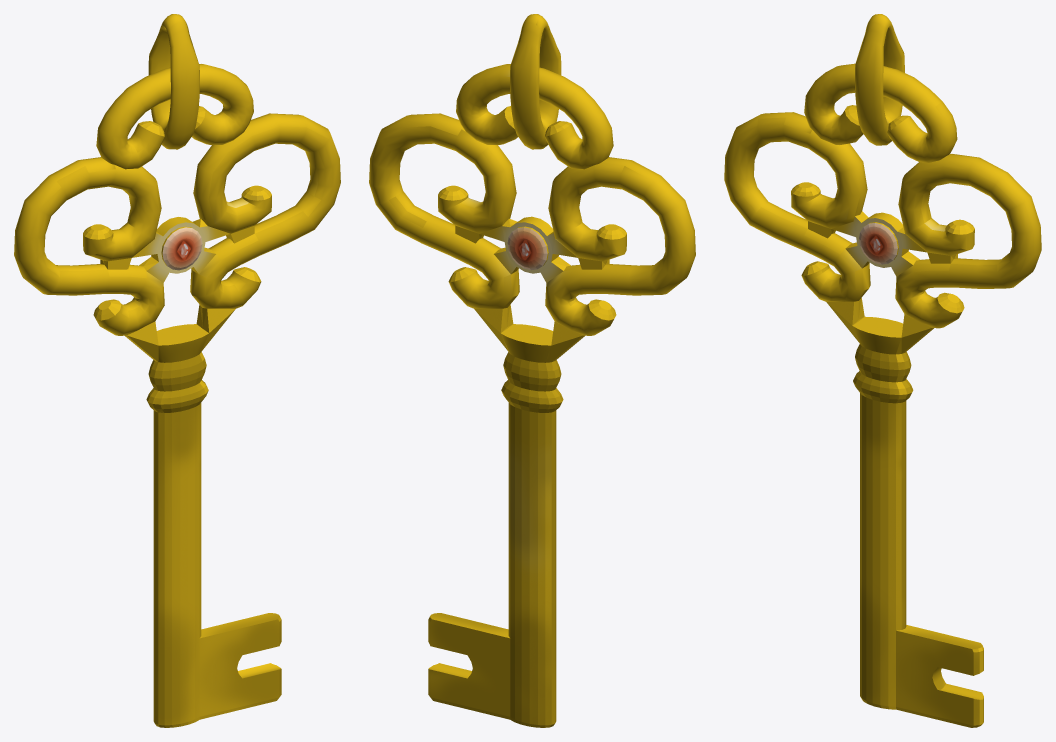
File: key.FBX
3 renders of one model, left to right at view 1: azimuth 30°, elevation 25°; view 2: azimuth 150°, elevation 25°; view 3: azimuth 330°, elevation 25°, orthographic. The views are drawn at different scales.
Visible parts, largest first — view 1: Torus001; view 2: Torus001; view 3: Torus001.
Boxes of the visible parts, x1,y1,x2,y2 form: Torus001: (14,14,340,727); Torus001: (369,14,695,727); Torus001: (724,14,1041,727).
Bounding box in the file's own units: 2450 × 5131 × 373.
